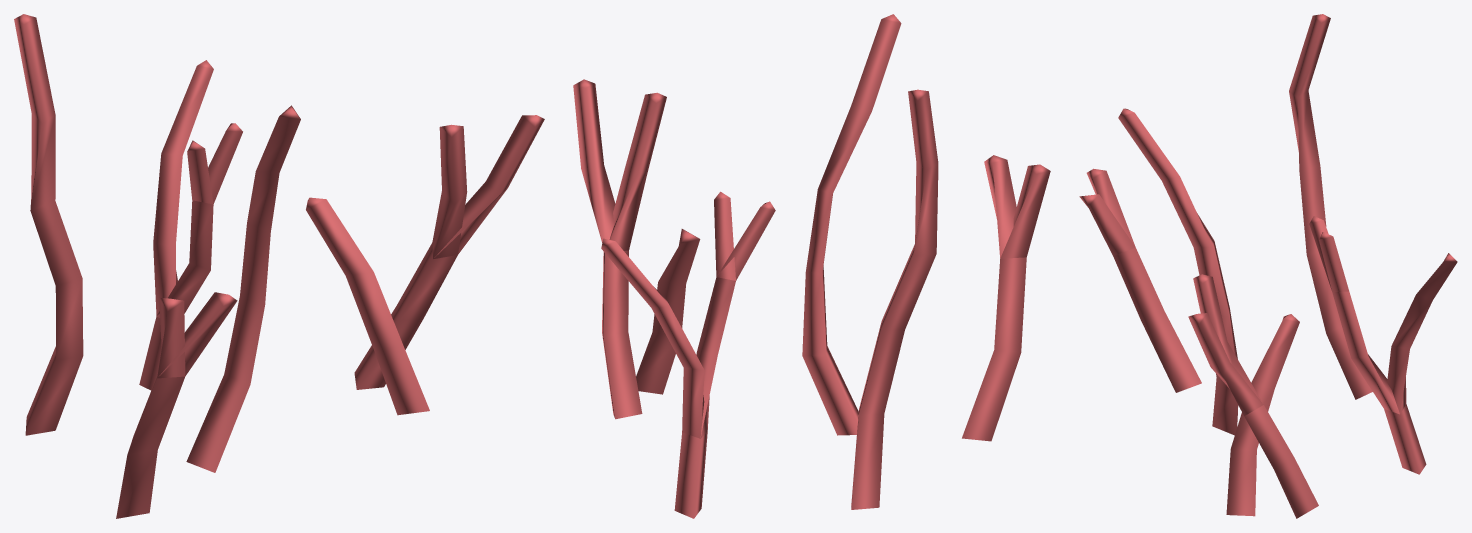
File: coral_sponge_A_ultralight.fbx
3 views of the same model, side by side, from view 1: azimuth 30°, elevation 25°; view 2: azimuth 150°, elevation 25°; view 3: azimuth 270°, elevation 25° (orthographic). The views are drawn at different scales.
Visible parts, largest first — view 1: coral_sponge_A_ultralight_A, coral_sponge_A_ultralight_F, coral_sponge_A_ultralight_C, coral_sponge_A_ultralight_B, coral_sponge_A_ultralight_D, coral_sponge_A_ultralight_E; view 2: coral_sponge_A_ultralight_C, coral_sponge_A_ultralight_F, coral_sponge_A_ultralight_A, coral_sponge_A_ultralight_B, coral_sponge_A_ultralight_D, coral_sponge_A_ultralight_E; view 3: coral_sponge_A_ultralight_F, coral_sponge_A_ultralight_A, coral_sponge_A_ultralight_C, coral_sponge_A_ultralight_D, coral_sponge_A_ultralight_B, coral_sponge_A_ultralight_E.
Boxes of the visible parts, <box> form: coral_sponge_A_ultralight_A: <box>14,14,83,435</box>; coral_sponge_A_ultralight_F: <box>139,60,242,390</box>; coral_sponge_A_ultralight_C: <box>354,115,544,389</box>; coral_sponge_A_ultralight_B: <box>186,105,300,472</box>; coral_sponge_A_ultralight_D: <box>116,292,237,518</box>; coral_sponge_A_ultralight_E: <box>306,197,429,415</box>; coral_sponge_A_ultralight_C: <box>573,79,666,419</box>; coral_sponge_A_ultralight_F: <box>601,191,775,518</box>; coral_sponge_A_ultralight_A: <box>851,89,938,509</box>; coral_sponge_A_ultralight_B: <box>802,14,901,435</box>; coral_sponge_A_ultralight_D: <box>962,155,1050,441</box>; coral_sponge_A_ultralight_E: <box>636,229,700,394</box>; coral_sponge_A_ultralight_F: <box>1309,216,1457,474</box>; coral_sponge_A_ultralight_A: <box>1289,14,1372,399</box>; coral_sponge_A_ultralight_C: <box>1188,274,1318,518</box>; coral_sponge_A_ultralight_D: <box>1079,168,1201,392</box>; coral_sponge_A_ultralight_B: <box>1118,108,1238,435</box>; coral_sponge_A_ultralight_E: <box>1226,314,1299,516</box>.
Bounding box in the file's own units: 77.09 × 75 × 67.75.
